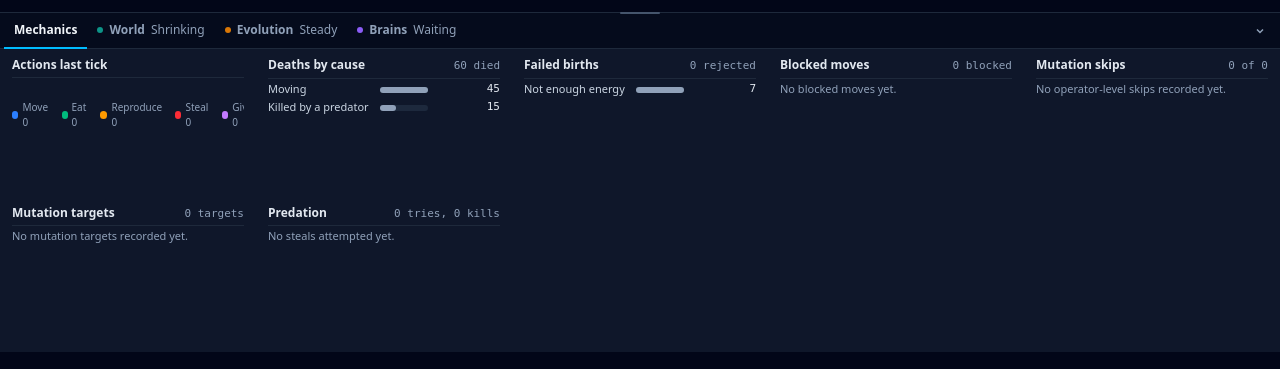
Test: StatsPanel › collapses to the tab bar, remembers it, and reopens on a tab click
Click the button named "Collapse statistics" at (1260, 30), box [1246,16,1274,44]
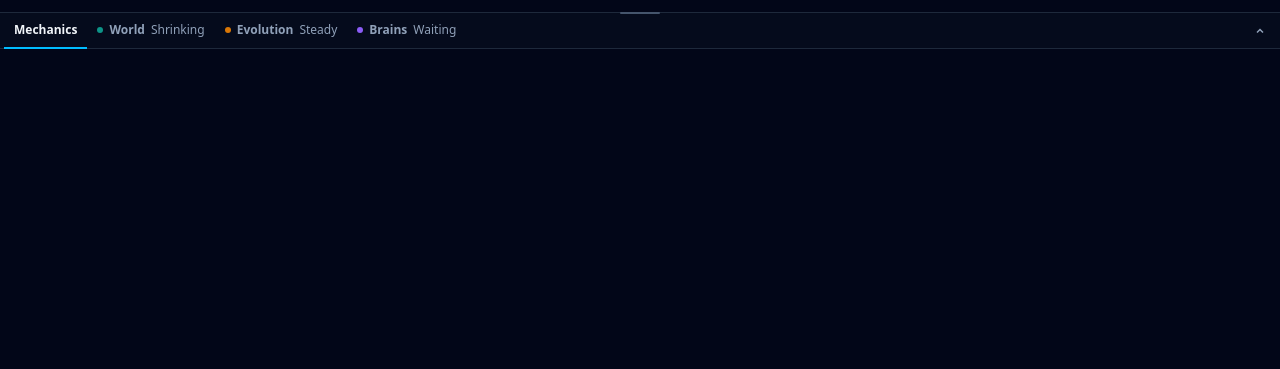
Click the tab "Evolution Steady" at (281, 31), box [215,13,347,49]
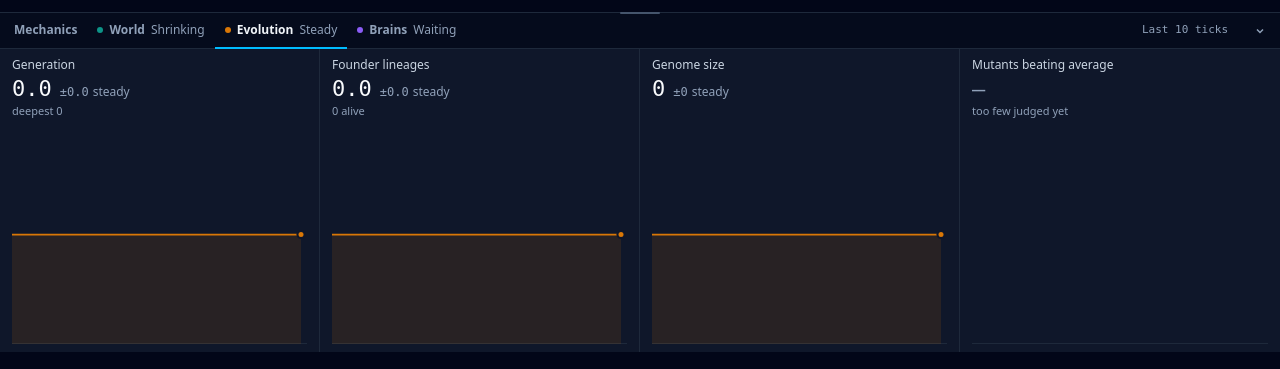
Result: the panel is shown
